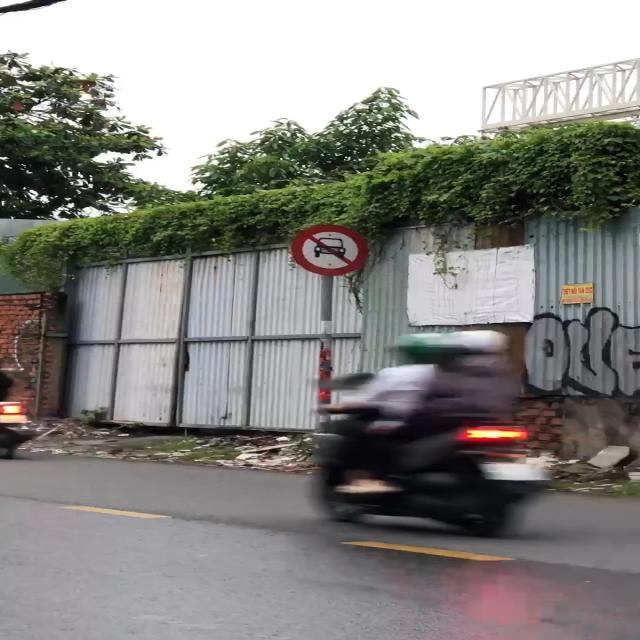Bien bao cam xe oto: (288, 223, 377, 275)
